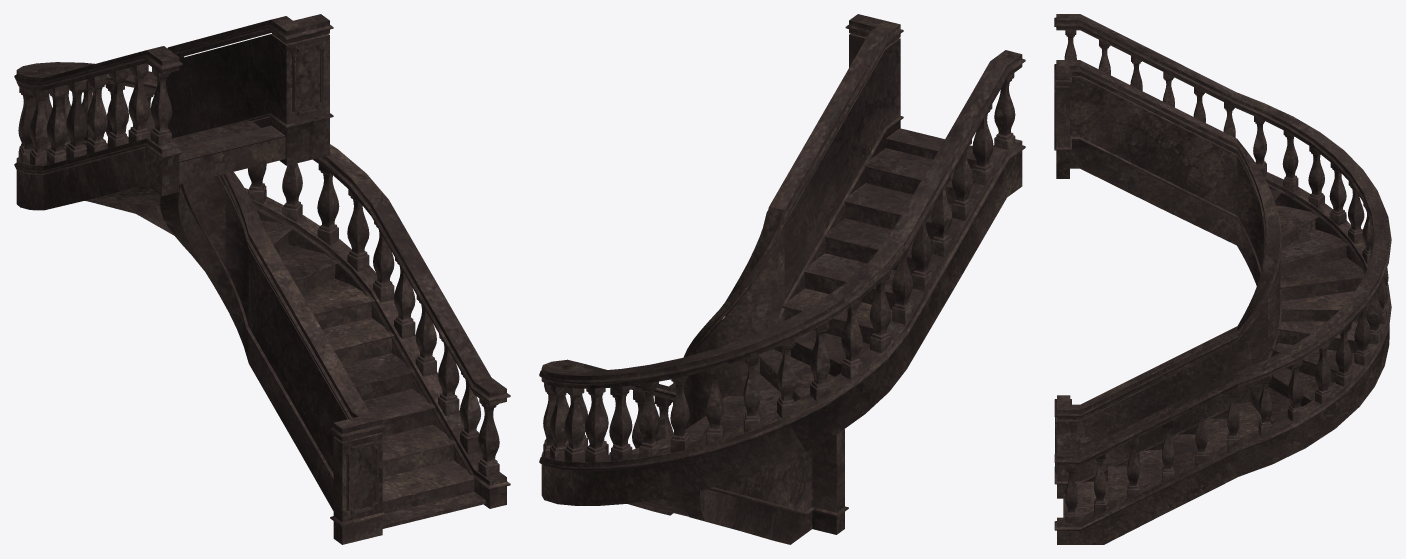
The model's file is SK3 STAIR INT.fbx.
3 views of the same model, side by side, from view 1: azimuth 30°, elevation 25°; view 2: azimuth 150°, elevation 25°; view 3: azimuth 270°, elevation 25° (orthographic). The views are drawn at different scales.
Parts seen in each view (by area): view 1: SK3 STAIR INT; view 2: SK3 STAIR INT; view 3: SK3 STAIR INT.
Part boxes in pixels (x1,y1,x2,y2): SK3 STAIR INT: (14, 14, 510, 544); SK3 STAIR INT: (539, 14, 1025, 544); SK3 STAIR INT: (1054, 14, 1391, 544).
Size of the model in its own units: 355 by 513 by 389.
